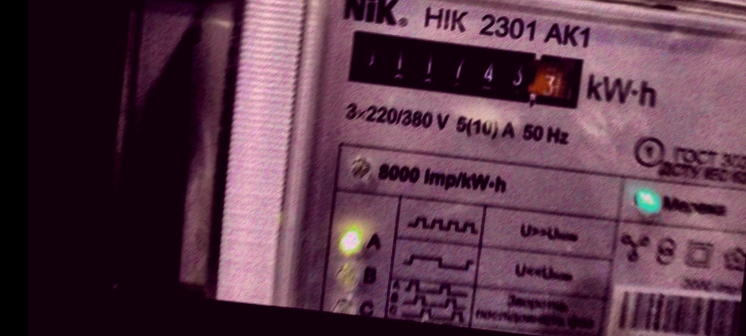0: (361, 39, 378, 69)
1: (422, 46, 437, 75), (393, 43, 406, 71)
3: (510, 59, 527, 88), (540, 72, 557, 98)
4: (480, 56, 497, 84)
7: (450, 49, 468, 79)
screen: (336, 18, 596, 120)
